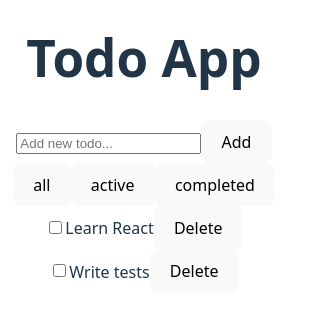
Todo App E2E Tests › Проверка удаления задачи из списка
# Добавляем задачу для последующего удаления
Type "Read book" into the field with test id "todo-input" at (109, 144), box x1=16 y1=133 x2=201 y2=154
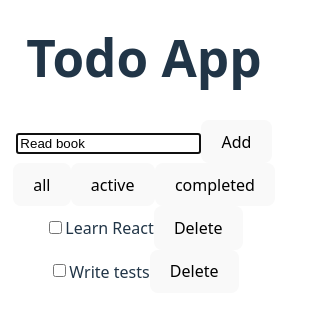
Click the button with test id "add-button" at (236, 142), box x1=201 y1=120 x2=271 y2=163
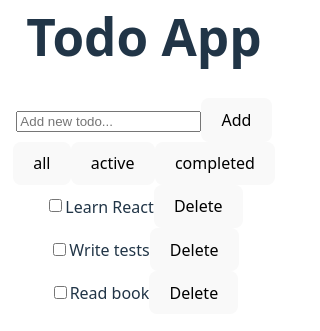
# Находим добавленную задачу и кликаем на кнопку удаления
Click the button with test id "delete-" at (194, 293), box x1=149 y1=271 x2=238 y2=314
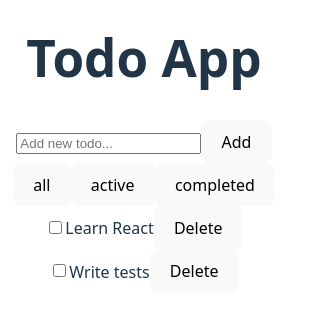
Check: the text with class "todo-item" no longer shows "Read book"
